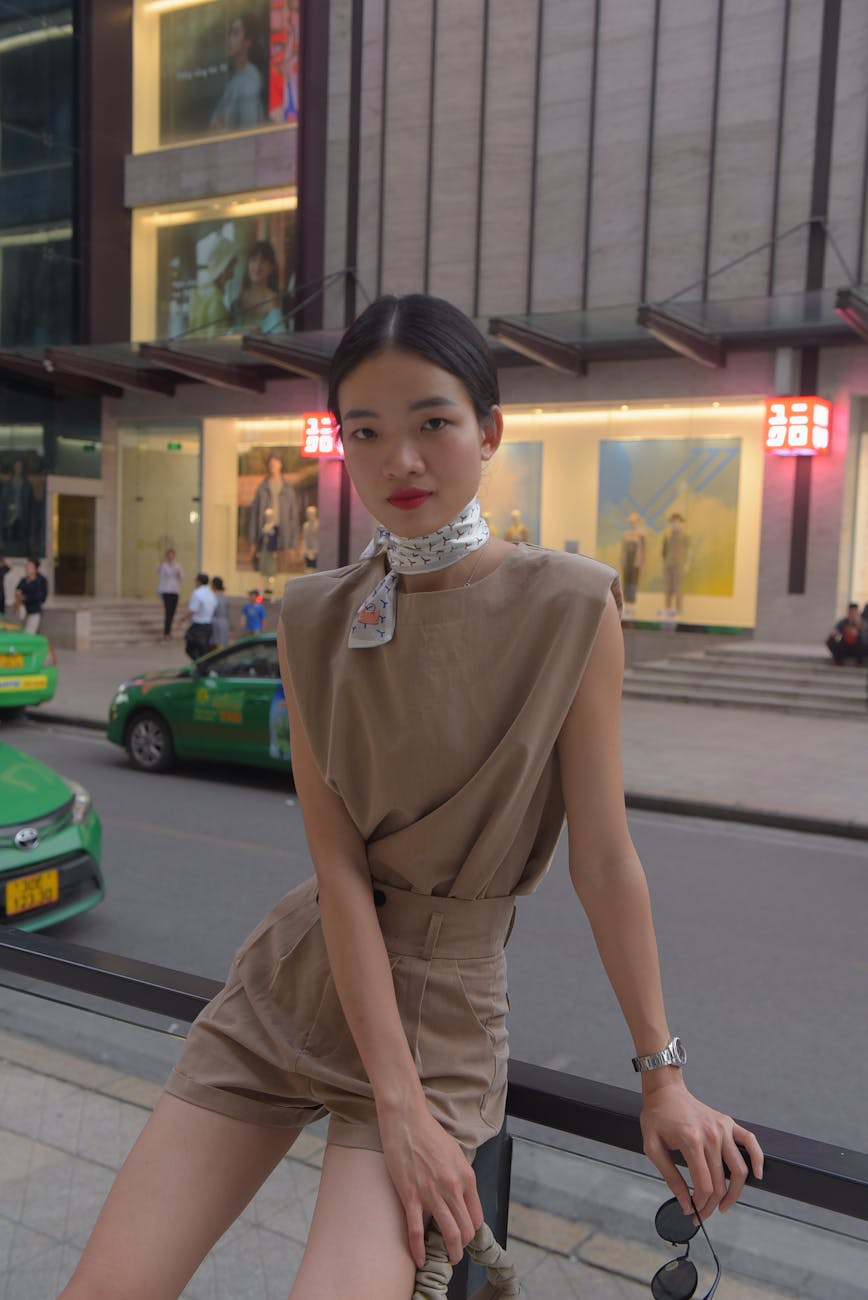short_medium_skirt: (162, 879, 538, 1159)
sleeveless_top: (268, 561, 596, 898)
